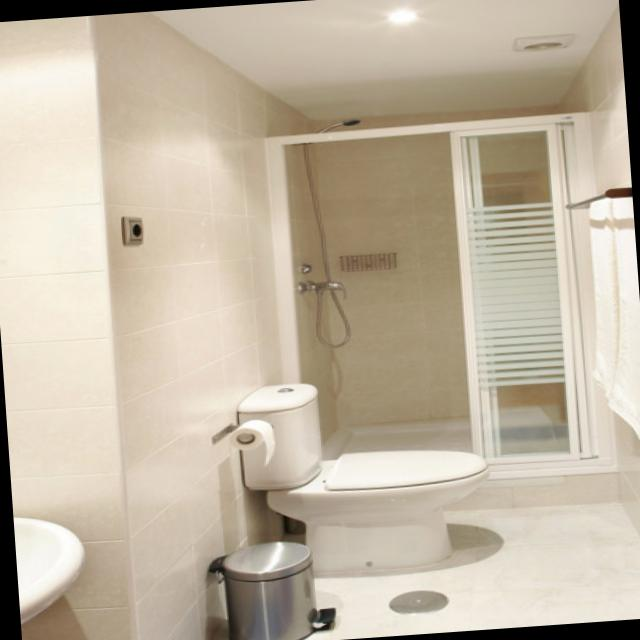ceiling beam: (154, 0, 617, 118)
cistern occluded: (238, 379, 322, 489)
faucet handle: (311, 279, 355, 297)
floor -X: (217, 502, 640, 640)
lamp crop: (390, 3, 423, 23)
screen occluded: (267, 110, 607, 463)
shower crop: (326, 408, 623, 506)
socket: (122, 216, 144, 244)
toilet paper: (234, 418, 273, 462)
towel basket: (594, 194, 639, 439)
trash can: (212, 540, 335, 638)
wall clock: (91, 13, 337, 640), (311, 106, 564, 429), (0, 16, 126, 640), (558, 7, 640, 541)
washbasin occluded: (19, 516, 89, 622)
wc chair crop: (265, 448, 490, 569)
